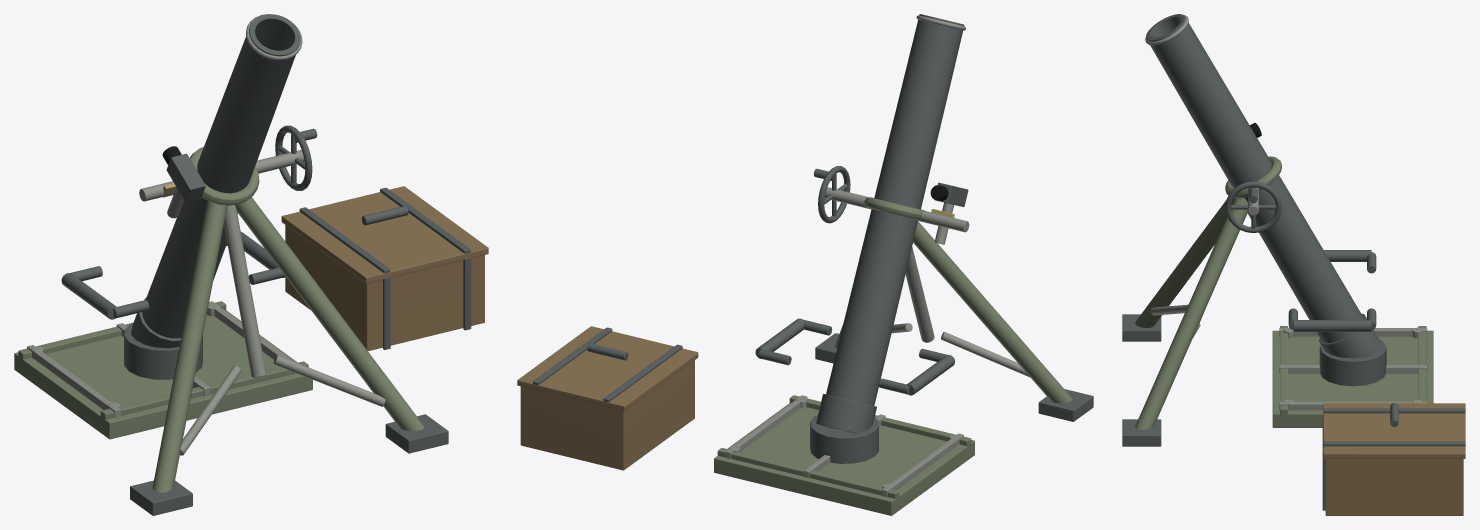
The model's file is mortar81.glb.
3 views of the same model, side by side, from view 1: azimuth 30°, elevation 25°; view 2: azimuth 150°, elevation 25°; view 3: azimuth 270°, elevation 25° (orthographic). The views are drawn at different scales.
Parts seen in each view (by area): view 1: mortar_tube, baseplate, wooden_chest, chest_lid, bipod_leg, bipod_leg.001, elevation_screw, ball_socket, baseplate_flange.001, bipod_shoe, bipod_shoe.001, bipod_brace.001 (+15 smaller); view 2: mortar_tube, baseplate, wooden_chest, chest_lid, bipod_leg, ball_socket, breech_cap, baseplate_flange, elevation_screw, bipod_shoe, traverse_screw, baseplate_flange.001 (+8 smaller); view 3: mortar_tube, wooden_chest, baseplate, chest_lid, bipod_leg.001, bipod_leg, ball_socket, breech_cap, handwheel_rim, carry_handle.001, bipod_shoe.001, steel_chest_band.002 (+9 smaller).
Part boxes in pixels (x1,y1,x2,y2): mortar_tube: [142, 14, 300, 338]; baseplate: [14, 310, 312, 439]; wooden_chest: [285, 225, 484, 350]; chest_lid: [281, 186, 488, 283]; bipod_leg: [152, 201, 227, 492]; bipod_leg.001: [235, 197, 424, 431]; elevation_screw: [224, 205, 266, 377]; ball_socket: [124, 323, 202, 379]; baseplate_flange.001: [100, 361, 308, 419]; bipod_shoe: [130, 480, 192, 515]; bipod_shoe.001: [385, 414, 448, 453]; bipod_brace.001: [273, 355, 385, 406]; mortar_tube: [826, 14, 964, 405]; baseplate: [714, 403, 974, 515]; wooden_chest: [520, 360, 694, 470]; chest_lid: [517, 326, 698, 411]; bipod_leg: [913, 221, 1072, 403]; ball_socket: [810, 415, 878, 463]; breech_cap: [816, 394, 876, 433]; baseplate_flange: [717, 448, 899, 499]; elevation_screw: [905, 246, 934, 342]; bipod_shoe: [1038, 389, 1093, 421]; traverse_screw: [824, 187, 969, 232]; baseplate_flange.001: [789, 395, 971, 446]; mortar_tube: [1146, 14, 1363, 343]; wooden_chest: [1325, 459, 1463, 515]; baseplate: [1272, 330, 1433, 427]; chest_lid: [1323, 403, 1465, 458]; bipod_leg.001: [1135, 197, 1248, 429]; bipod_leg: [1135, 198, 1234, 327]; ball_socket: [1319, 339, 1386, 386]; breech_cap: [1319, 313, 1379, 358]; handwheel_rim: [1225, 181, 1281, 232]; carry_handle.001: [1293, 320, 1371, 331]; bipod_shoe.001: [1122, 419, 1161, 446]; steel_chest_band.002: [1323, 441, 1465, 446].
Bounding box in the file's own units: 0.9625 × 0.9422 × 0.7475.
